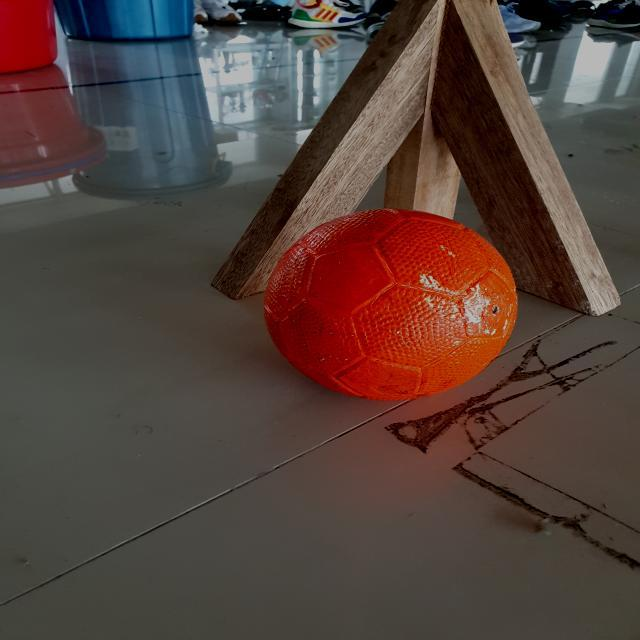bola: (244, 185, 552, 446)
